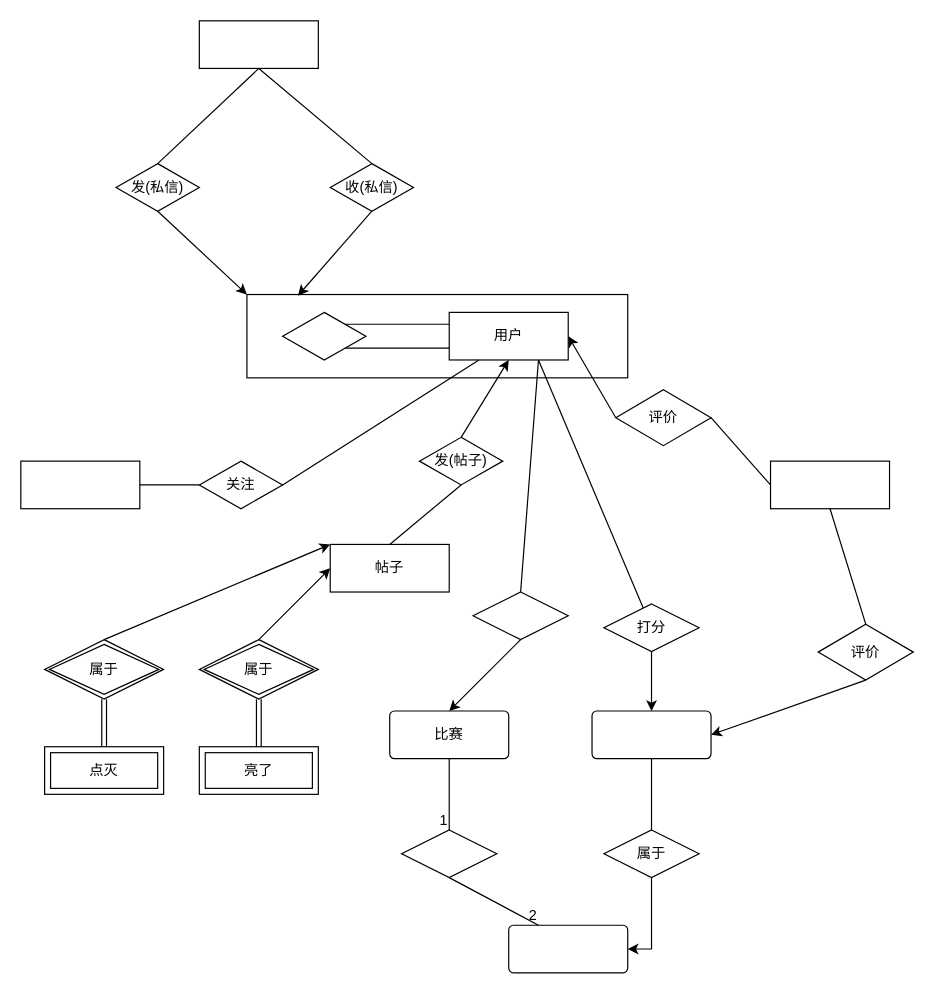
This 934x994 diagram has some shape labels left out. Here are the shapes that lost their labels. From the top down, the centre of each, then its label:
At (x=258, y=44): "私信".
At (x=323, y=335): "好友".
At (x=80, y=484): "专区".
At (x=829, y=484): "评论".
At (x=520, y=615): "观看".
At (x=651, y=734): "队员".
At (x=448, y=853): "参加".
At (x=568, y=948): "队伍".
